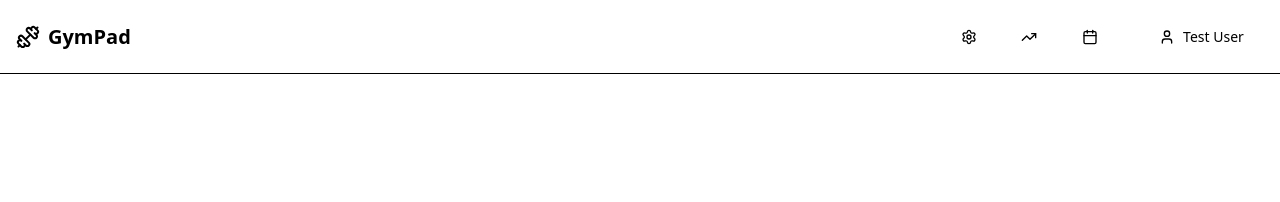
it: Header Component › User Menu › displays user information in dropdown
Click the button titled "Test User". click: (1201, 37)
box: [1139,16,1264,57]
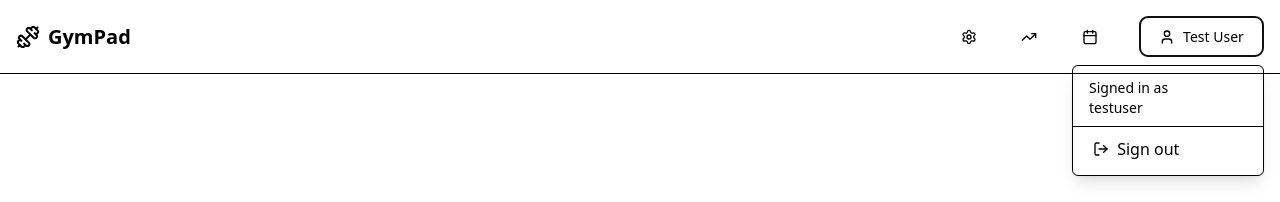
expect the text "Signed in as" is shown: met, box [1089,78,1168,97]
expect the text "testuser" is shown: met, box [1089,98,1143,117]
expect the text "Sign out" is shown: met, box [1117,138,1179,161]
